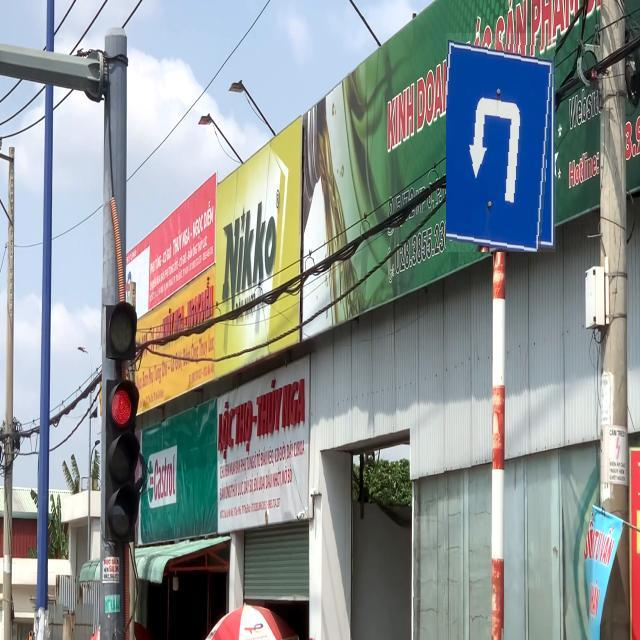R-409: (447, 33, 557, 252)
